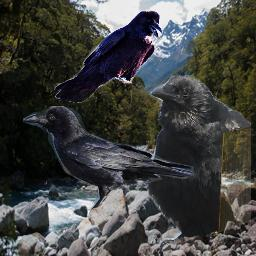Crow: (23, 106, 196, 213), (143, 74, 251, 245), (54, 10, 162, 103)
